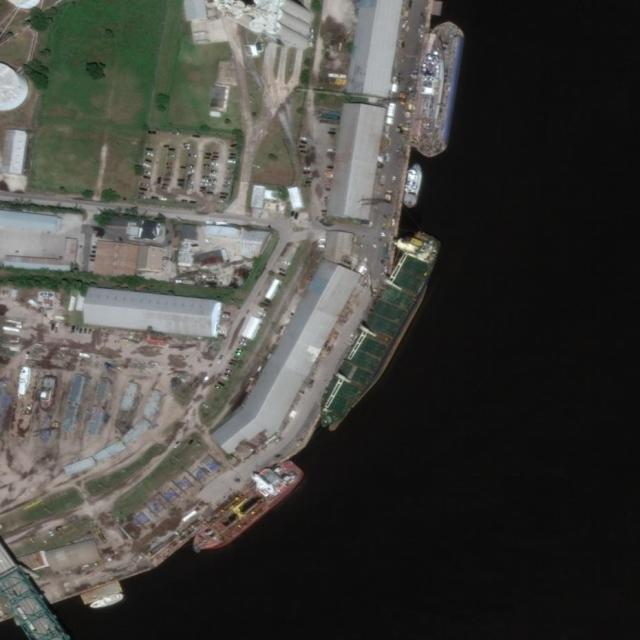Cargo: (306, 224, 453, 442)
Oil Tanker: (182, 443, 315, 562)
